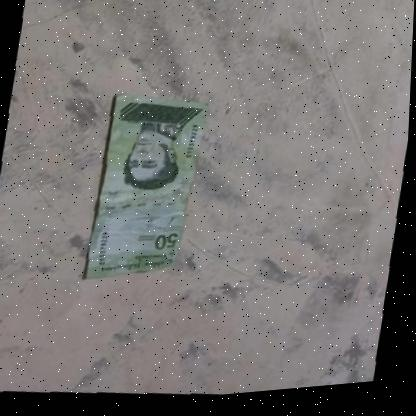dollar_front: (86, 90, 209, 292)
